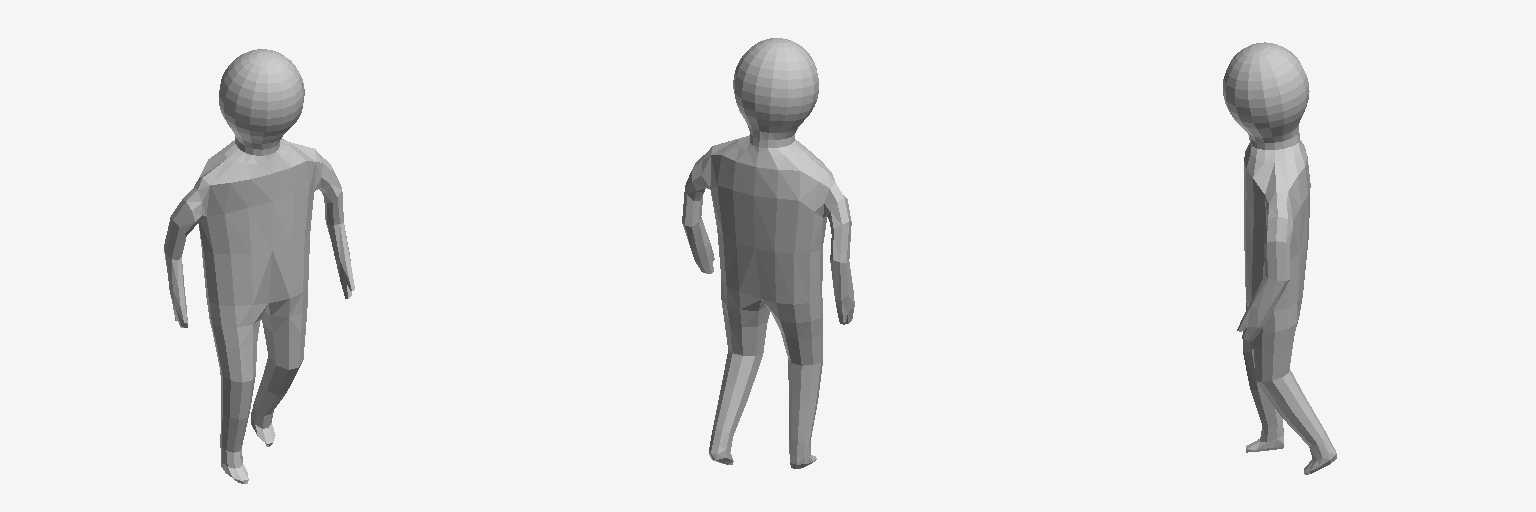
File: Czlowiek11.obj
3 views of the same model, side by side, from view 1: azimuth 30°, elevation 25°; view 2: azimuth 150°, elevation 25°; view 3: azimuth 270°, elevation 25° (orthographic).
Parts seen in each view (by area): view 1: Sphere.001; view 2: Sphere.001; view 3: Sphere.001.
Boxes of the visible parts, <box> form: Sphere.001: <box>164,49,354,483</box>; Sphere.001: <box>682,38,854,468</box>; Sphere.001: <box>1223,42,1336,474</box>.
Size of the model in its own units: 1.76 by 4.17 by 1.04.